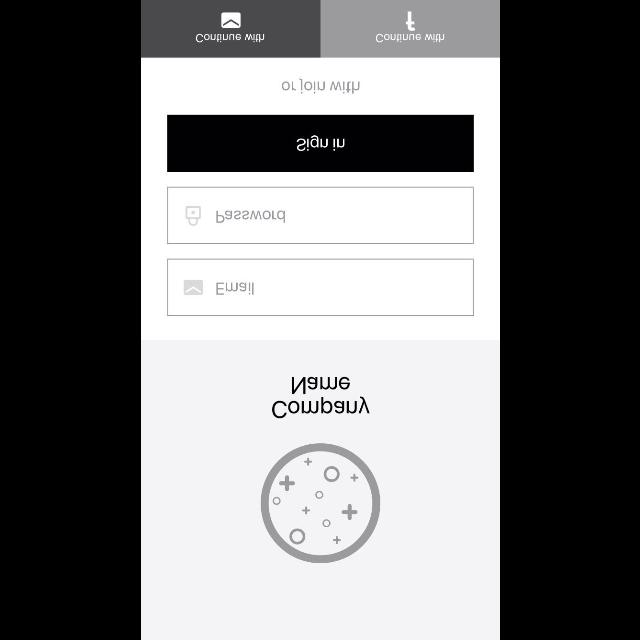icon: (186, 206, 200, 226), (184, 280, 202, 294)
image: (260, 443, 380, 563)
input: (167, 258, 473, 316), (167, 186, 473, 244)
text: (272, 376, 370, 418), (281, 80, 361, 94), (215, 210, 285, 223), (216, 283, 254, 295)
textbutton: (167, 114, 473, 172), (320, 0, 500, 58), (140, 0, 320, 58)
